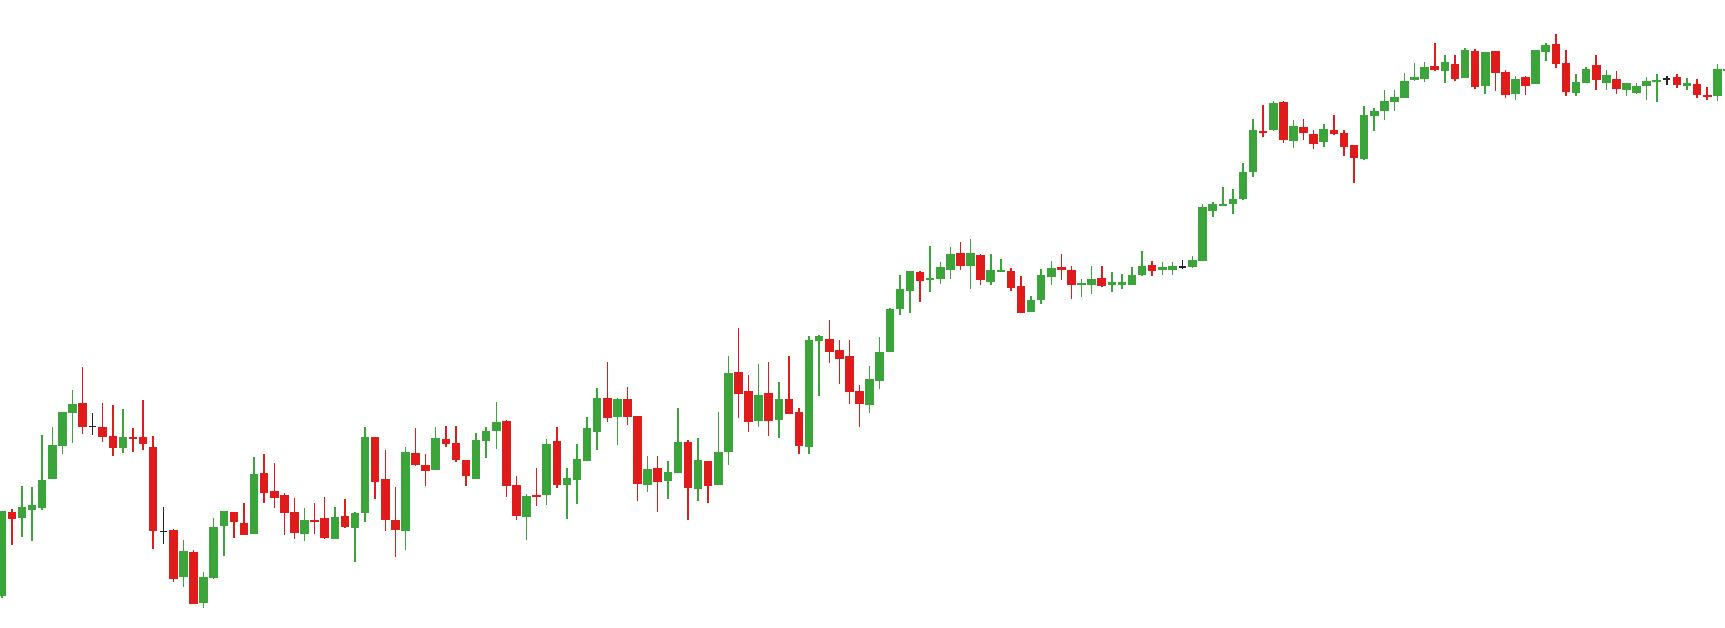buy: (463, 428, 553, 542)
sell: (602, 327, 744, 453), (1472, 35, 1563, 84)
